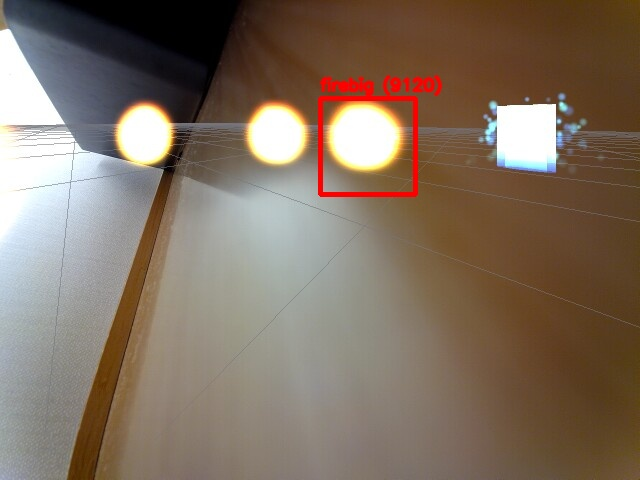firebig: (320, 98, 415, 194)
